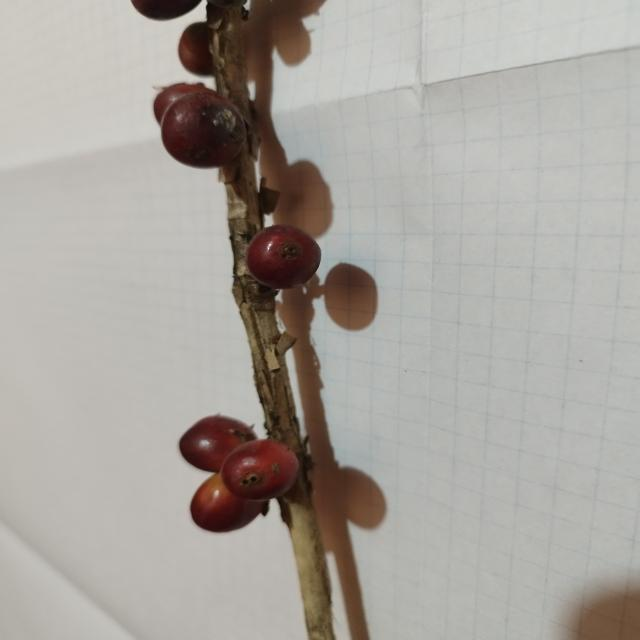Danado: (163, 92, 246, 168)
Infectado: (246, 227, 322, 290), (222, 440, 299, 501)
Sano: (188, 473, 270, 537)
